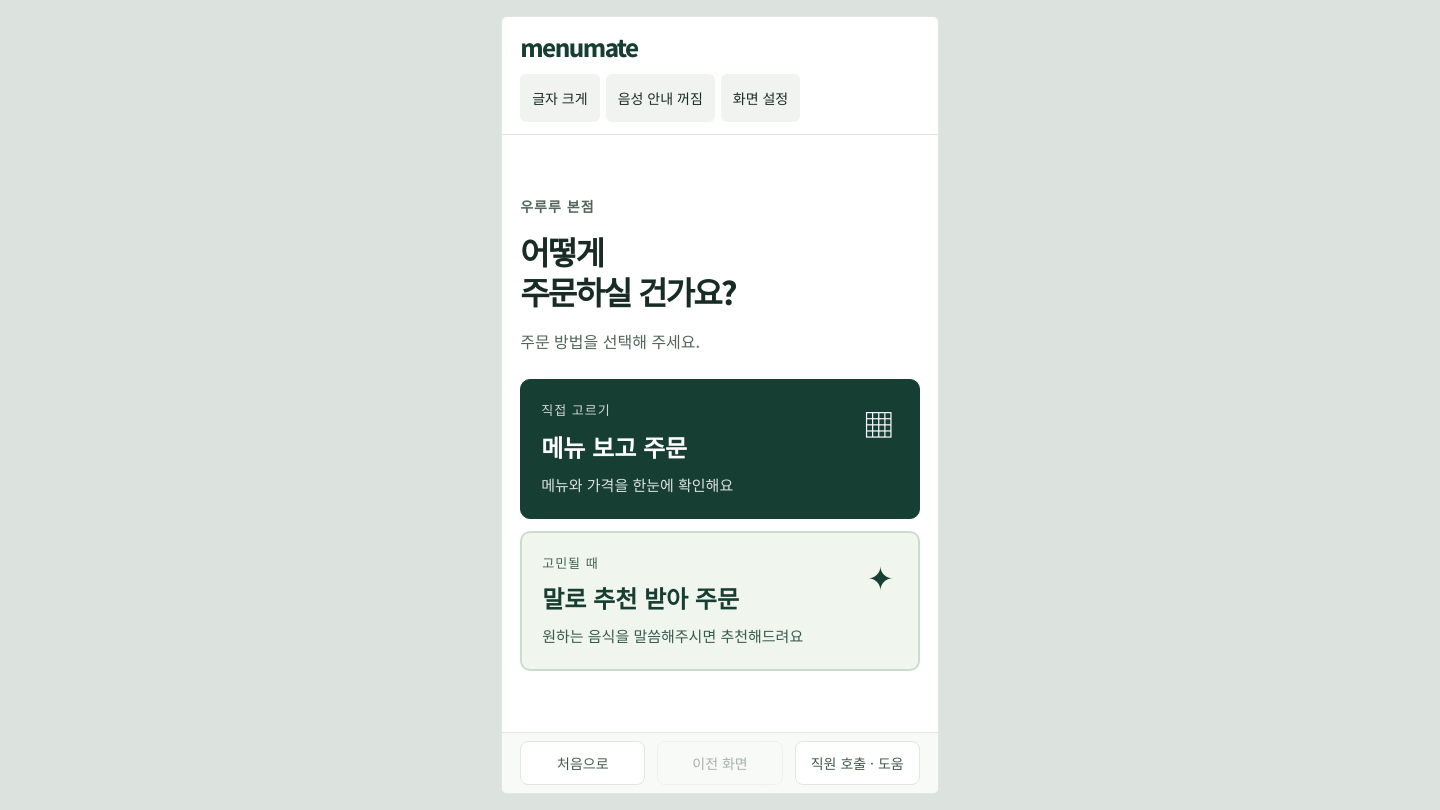
kiosk parity features › asks for an option before adding a menu that has one
Click the button "직접 고르기 메뉴 보고 주문 메뉴와 가격을 한눈에 확인해요 ▦" at point(576, 409), box [520,379,920,519]
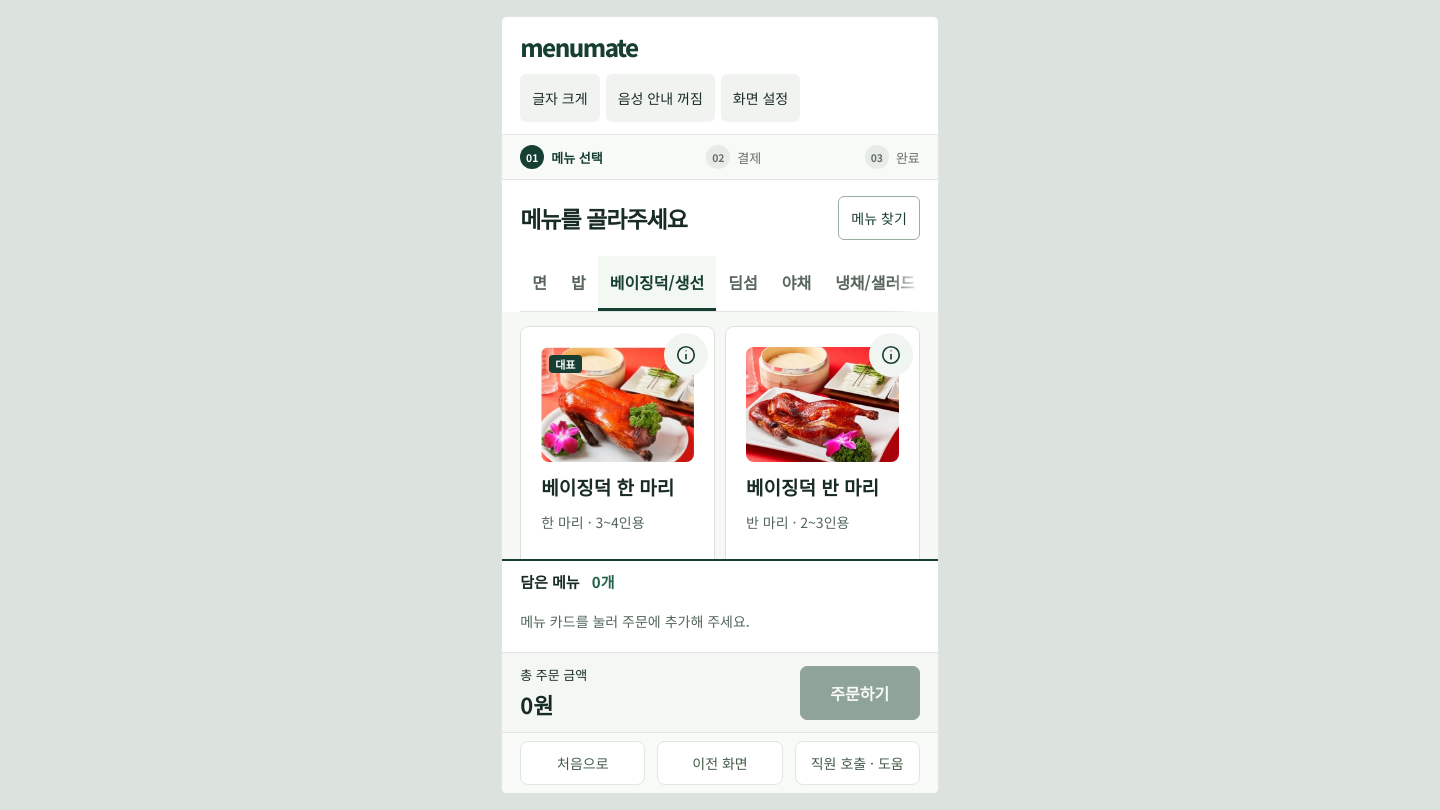
Click the button "야채" at point(796, 284), box [770,256,823,311]
(page scrolled)
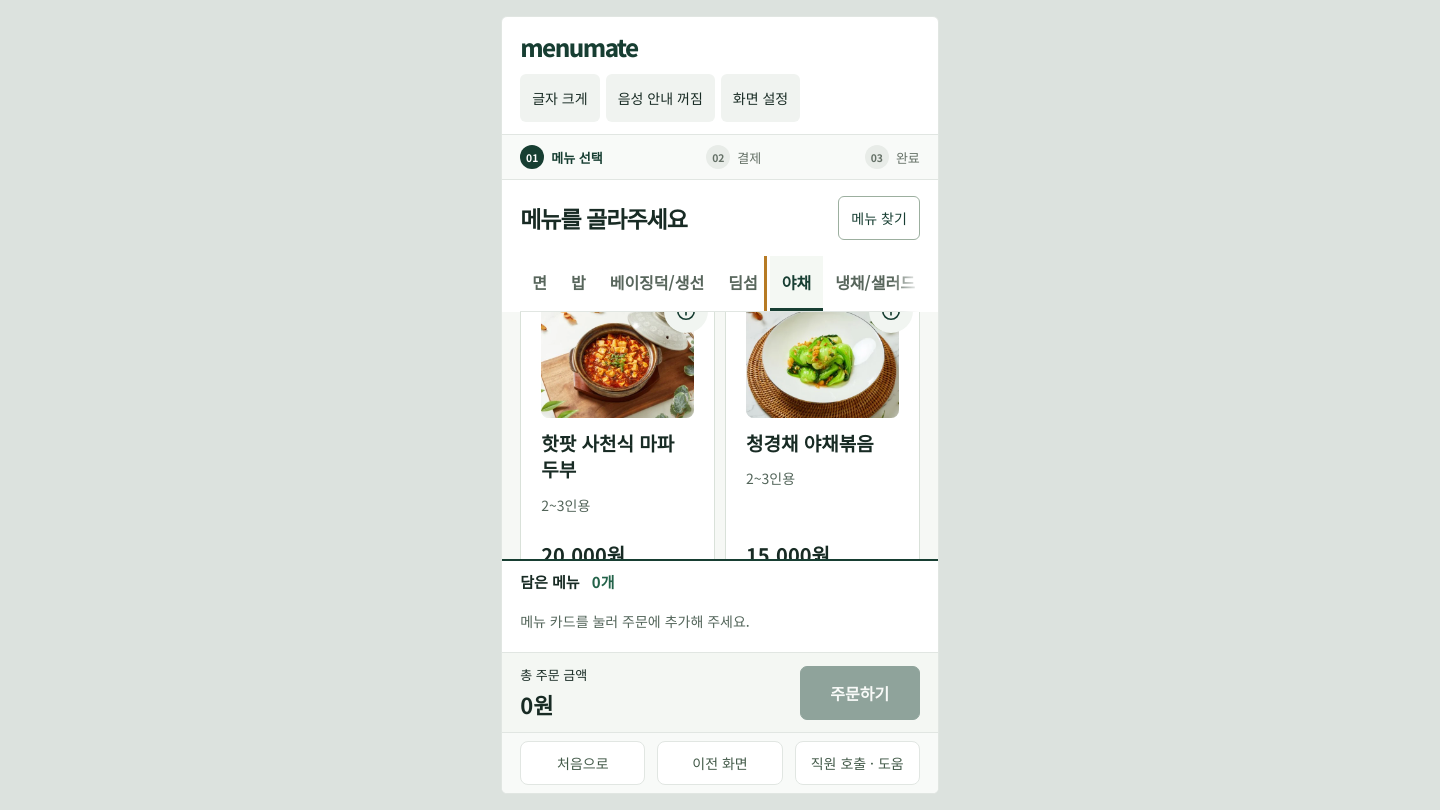
Click the button with aria-label "청경채 야채볶음 선택" at point(822, 436), box [726,283,919,589]
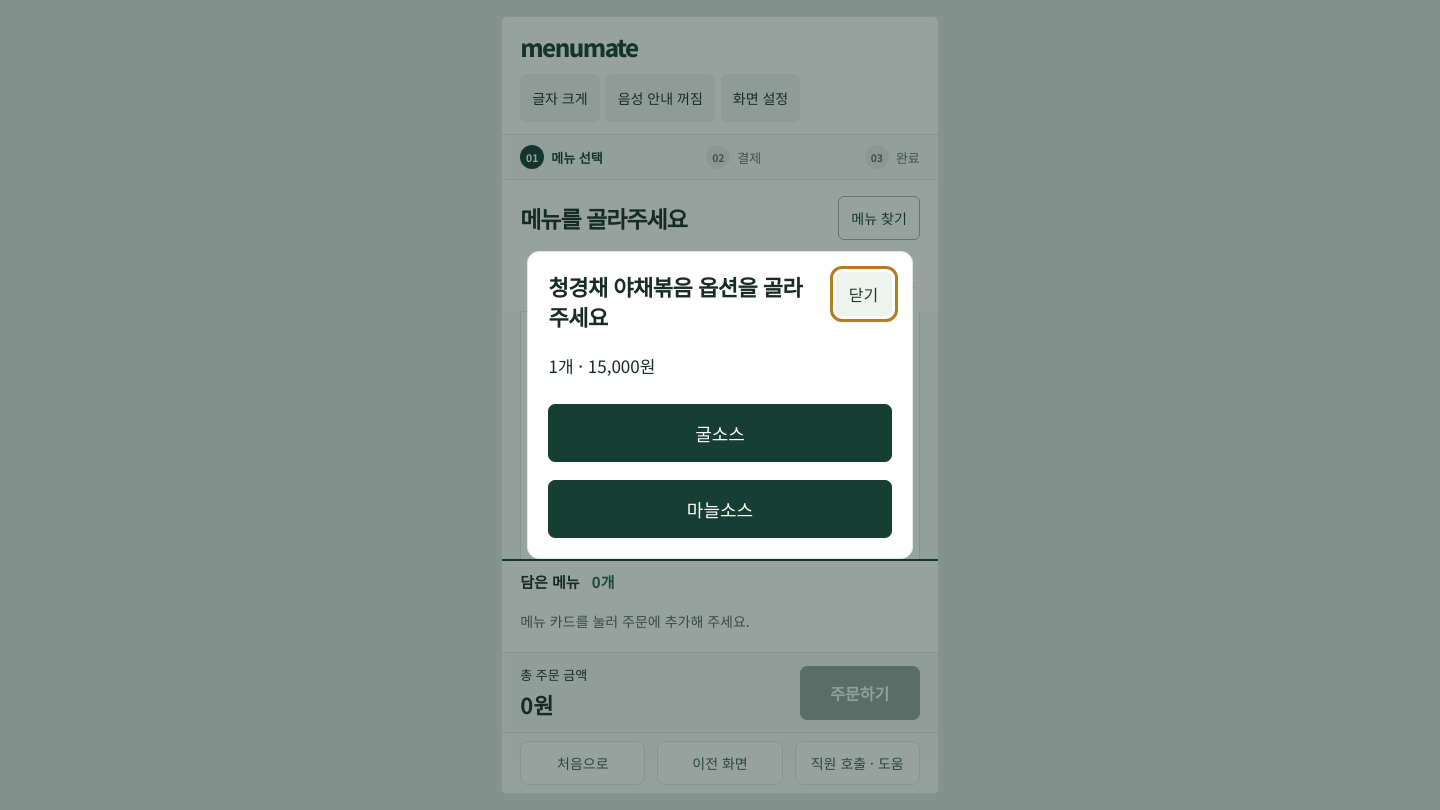
Expected: the dialog shows "청경채 야채볶음 옵션을 골라 주세요", [548,270,802,332]
Click the button "마늘소스" at point(720, 509), box [548,480,892,538]
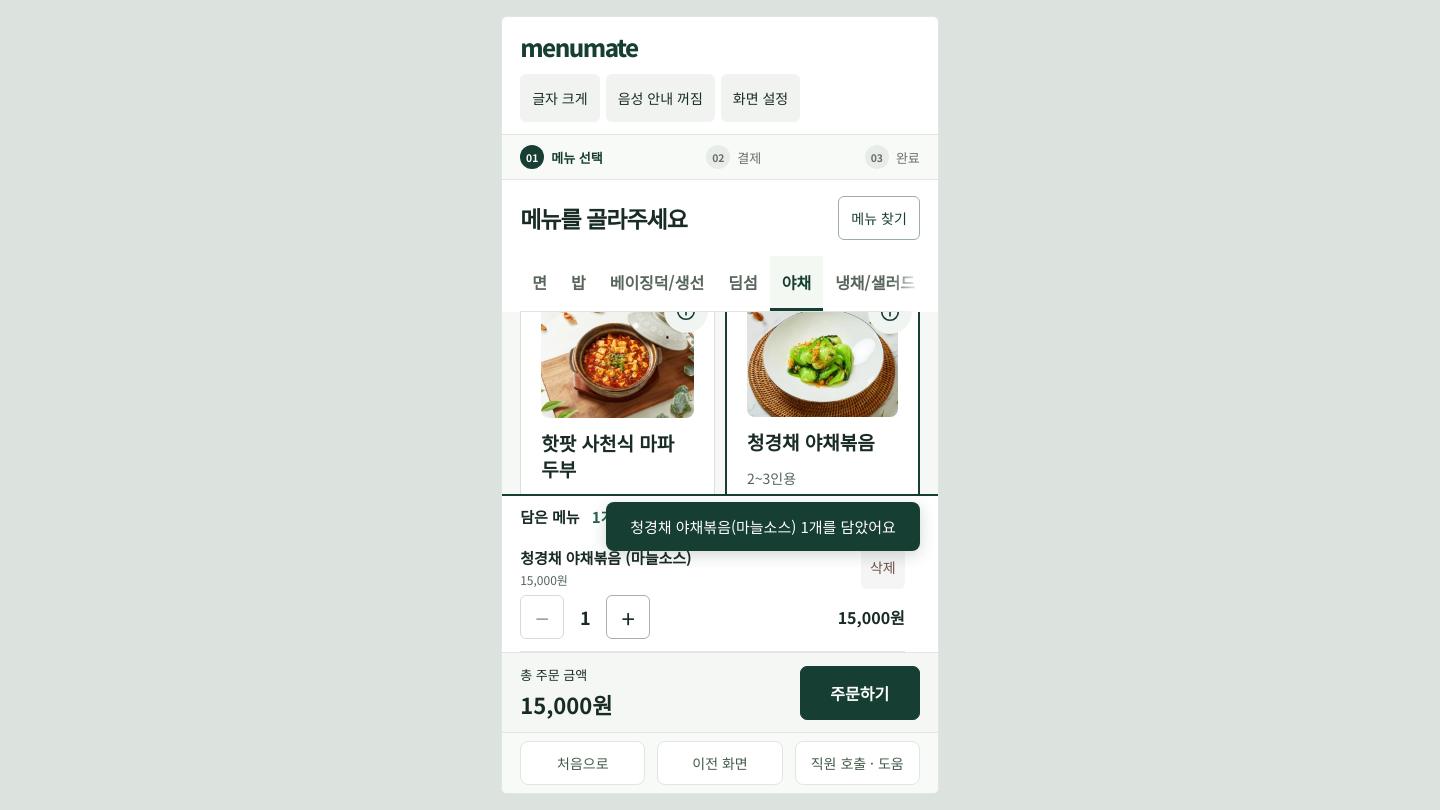
Expected: the text named "청경채 야채볶음 (마늘소스) 수량" reads "1", [580,604,590,630]
